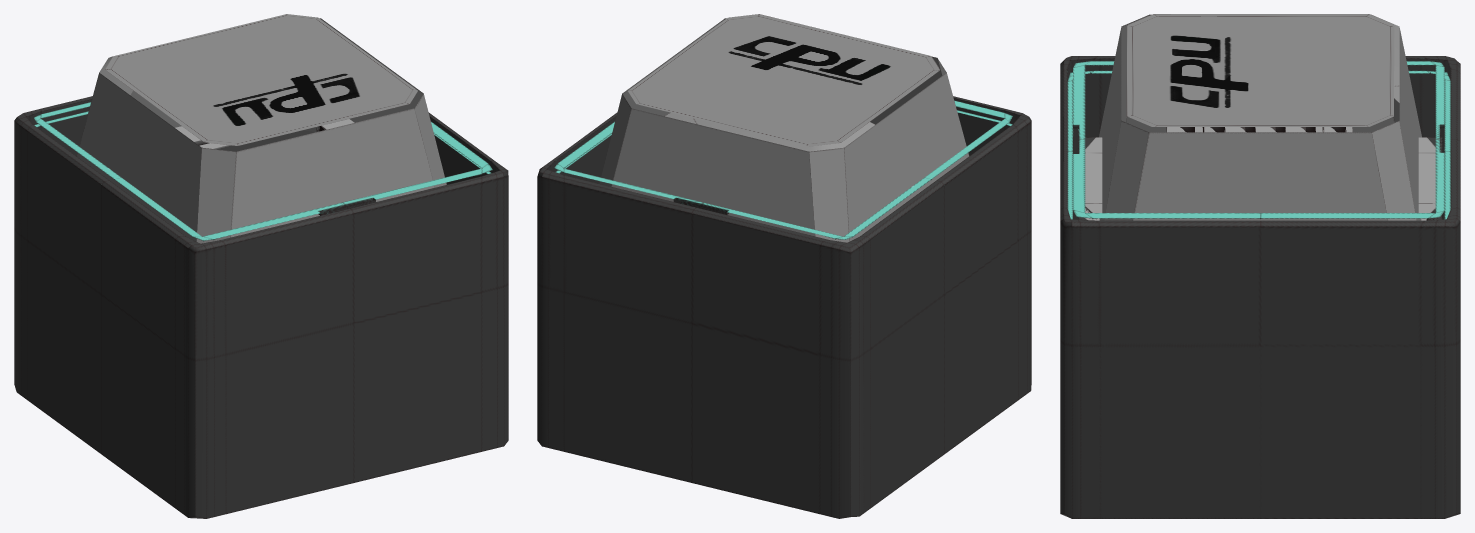
The model's file is boxx.fbx.
3 views of the same model, side by side, from view 1: azimuth 30°, elevation 25°; view 2: azimuth 150°, elevation 25°; view 3: azimuth 270°, elevation 25° (orthographic). The views are drawn at different scales.
Parts seen in each view (by area): view 1: pCube5.001, pCube2; view 2: pCube5.001, pCube2; view 3: pCube5.001, pCube2.
Part boxes in pixels (bbox=[...]): pCube5.001: bbox=[14, 96, 508, 518]; pCube2: bbox=[76, 14, 446, 243]; pCube5.001: bbox=[537, 96, 1031, 518]; pCube2: bbox=[599, 14, 969, 242]; pCube5.001: bbox=[1060, 56, 1460, 518]; pCube2: bbox=[1099, 14, 1421, 220].
Size of the model in its own units: 4.78 by 4.79 by 4.78.
